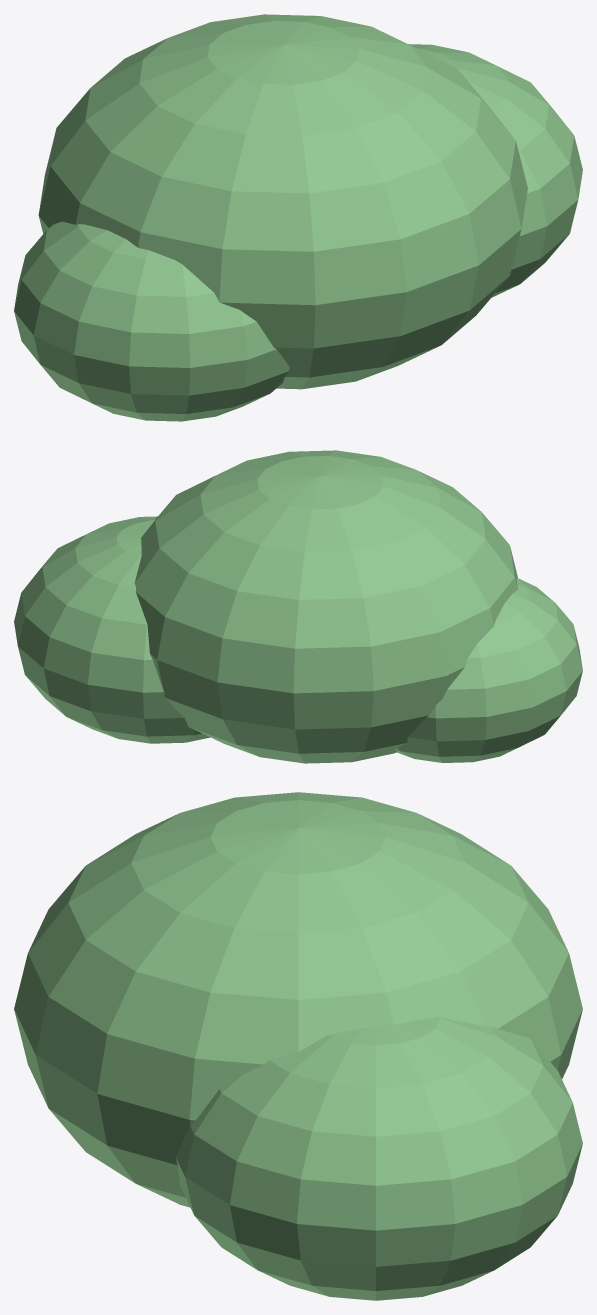
The model's file is bush.glb.
The picture shows the model from 3 angles, top to bottom: view 1: azimuth 30°, elevation 25°; view 2: azimuth 150°, elevation 25°; view 3: azimuth 270°, elevation 25°; orthographic projection. The views are drawn at different scales.
Parts seen in each view (by area): view 1: bush_lobe_0, bush_lobe_2, bush_lobe_1; view 2: bush_lobe_0, bush_lobe_1, bush_lobe_2; view 3: bush_lobe_0, bush_lobe_1.
Part boxes in pixels (x1,y1,x2,y2): bush_lobe_0: (38, 14, 527, 389); bush_lobe_2: (14, 221, 289, 421); bush_lobe_1: (408, 44, 582, 297); bush_lobe_0: (134, 450, 517, 763); bush_lobe_1: (14, 516, 210, 743); bush_lobe_2: (395, 578, 582, 762); bush_lobe_0: (14, 792, 582, 1207); bush_lobe_1: (175, 1017, 582, 1300).
Size of the model in its own units: 3 by 1.54 by 2.2.
